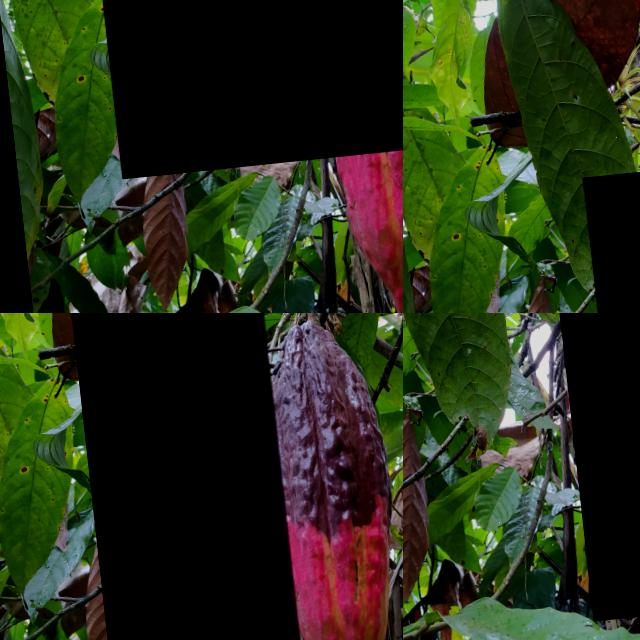Fitoftora: (545, 313, 640, 628), (576, 174, 640, 313)
Monilia: (67, 313, 299, 640), (92, 0, 403, 181)
